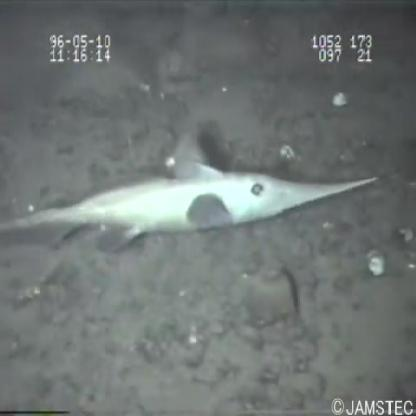Bio: (2, 132, 382, 270)
